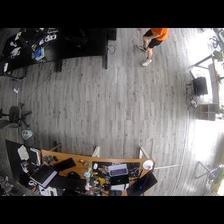fall: (132, 27, 168, 65)
